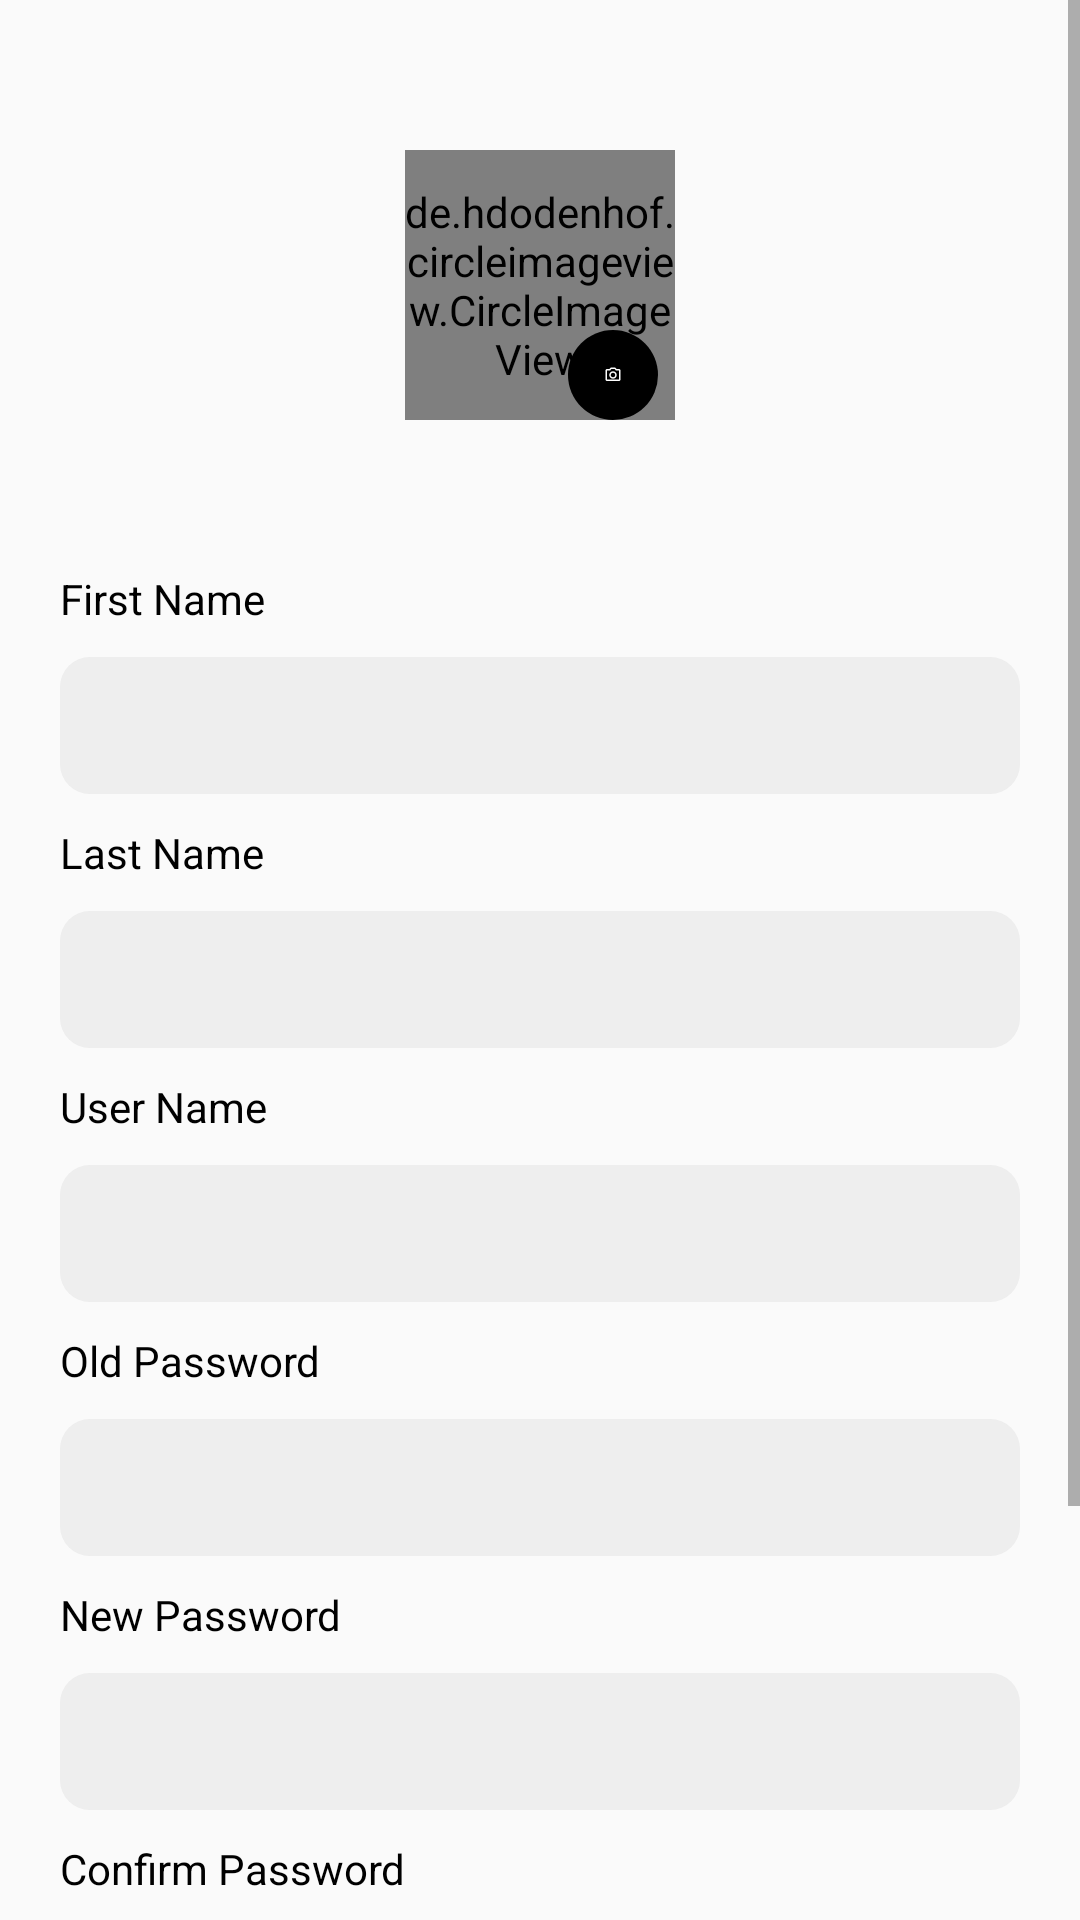

Named icons in this screenshot (1080px x 1920px) and their bounding boxes, (x1, y1, x2, y2):
camera: (568, 330, 658, 420)
